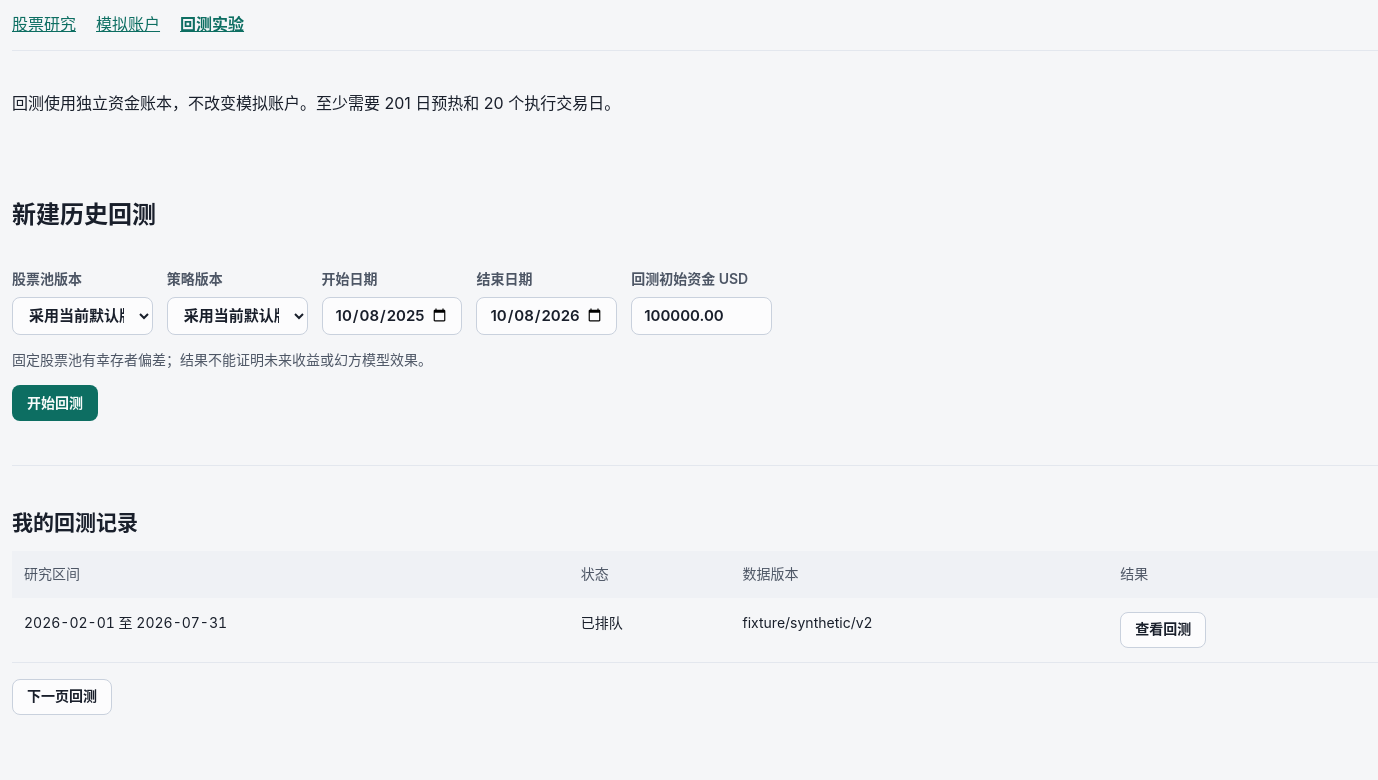
translates run status and walks back through run history pages
Check: the text "已排队" is shown, box top-left (569, 598), bottom-right (730, 662)
Click the button "下一页回测": (62, 697) top-left (12, 679), bottom-right (112, 715)
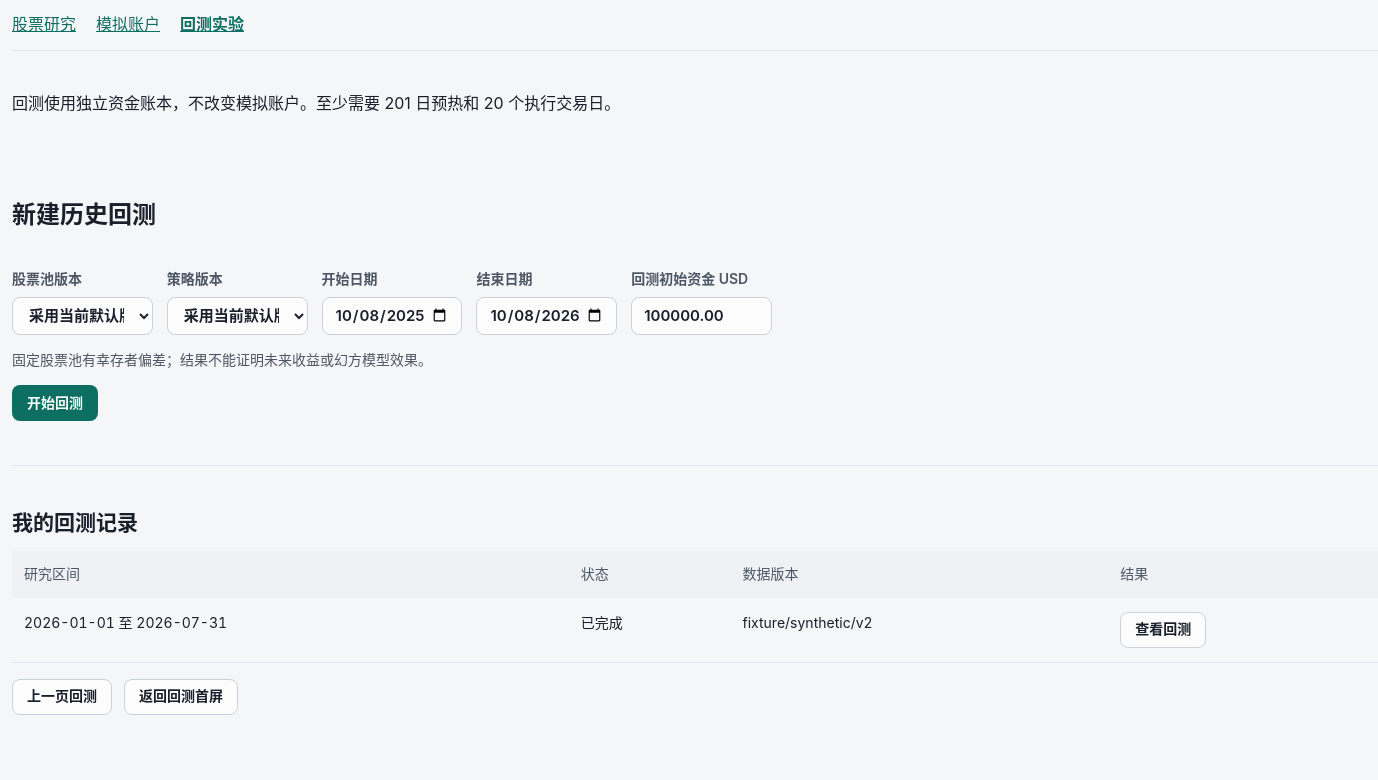
Check: the text "已完成" is shown, box top-left (569, 598), bottom-right (730, 662)
Click the button "上一页回测": (62, 697) top-left (12, 679), bottom-right (112, 715)
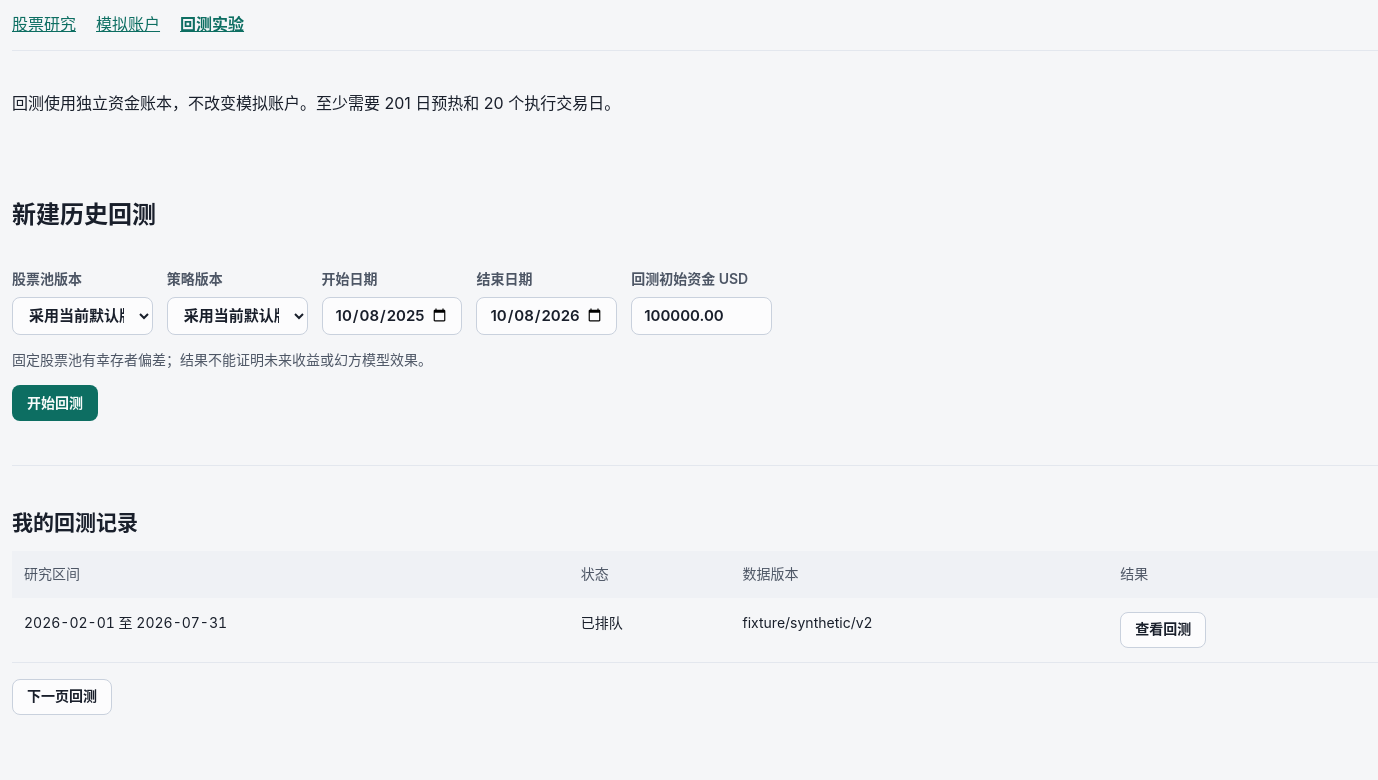
Check: the text "已排队" is shown, box top-left (569, 598), bottom-right (730, 662)
